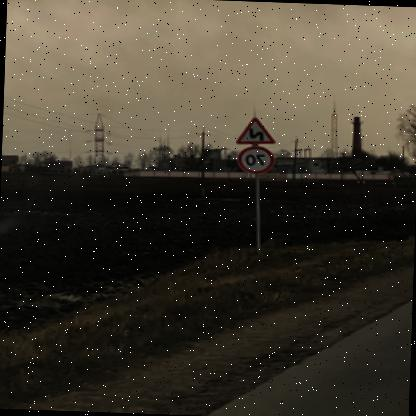speedlimit: (240, 145, 278, 174)
